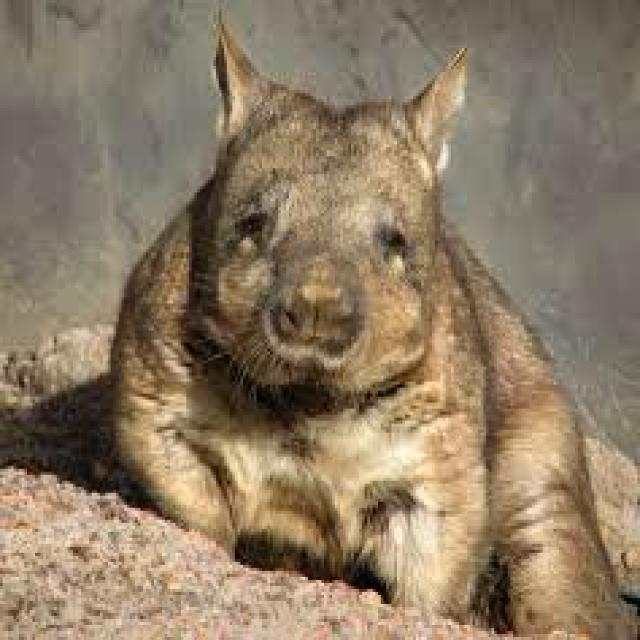wombats: (113, 12, 637, 637)
